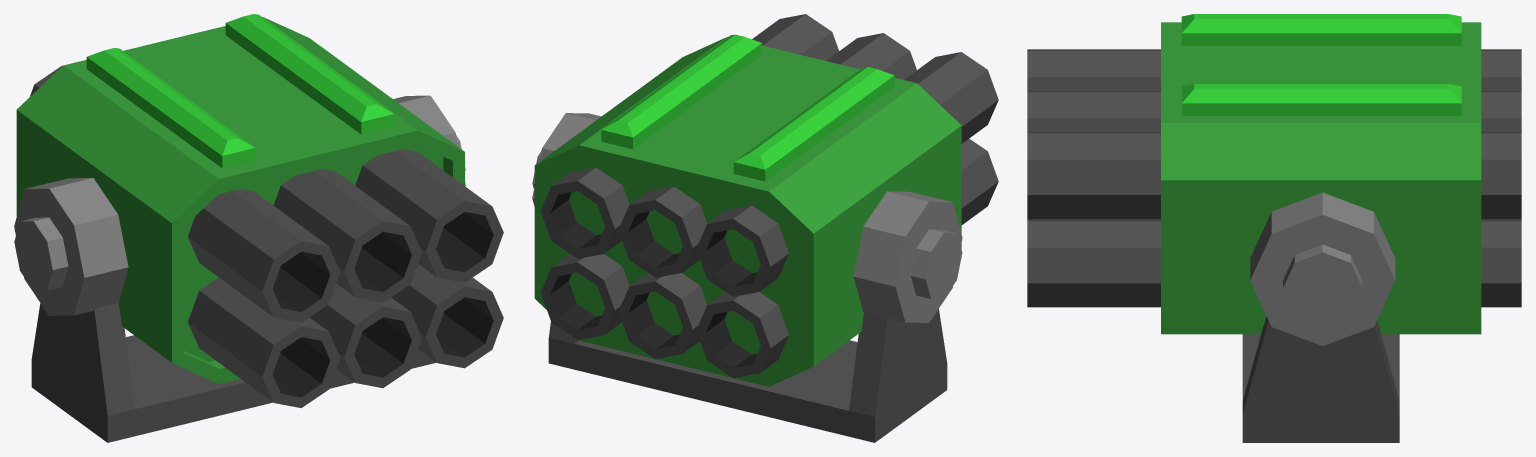
The model's file is six_pack_cannon.fbx.
3 views of the same model, side by side, from view 1: azimuth 30°, elevation 25°; view 2: azimuth 150°, elevation 25°; view 3: azimuth 270°, elevation 25° (orthographic). The views are drawn at different scales.
Parts seen in each view (by area): view 1: Cube.024, Cylinder.005, Cube.025, Cylinder.004; view 2: Cube.024, Cylinder.005, Cube.025, Cylinder.004; view 3: Cube.024, Cylinder.005, Cube.025, Cylinder.004.
Boxes of the visible parts, x1,y1,x2,y2 form: Cube.024: (16, 14, 464, 383); Cylinder.005: (30, 65, 503, 408); Cube.025: (31, 302, 436, 442); Cylinder.004: (14, 95, 465, 315); Cube.024: (534, 34, 961, 386); Cylinder.005: (540, 14, 998, 378); Cube.025: (548, 309, 947, 442); Cylinder.004: (532, 113, 962, 322); Cube.024: (1161, 14, 1481, 334); Cylinder.005: (1027, 49, 1521, 307); Cube.025: (1242, 316, 1399, 442); Cylinder.004: (1250, 192, 1395, 345).
Bounding box in the file's own units: 123 × 83.97 × 123.
